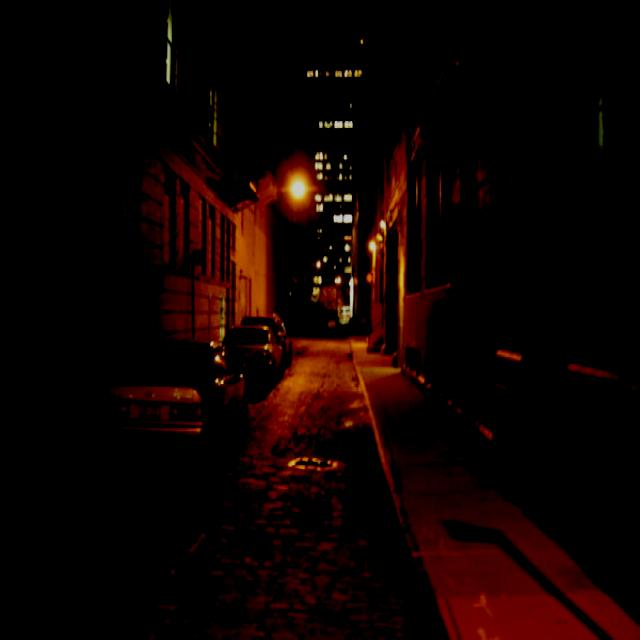Car: (95, 336, 247, 474)
